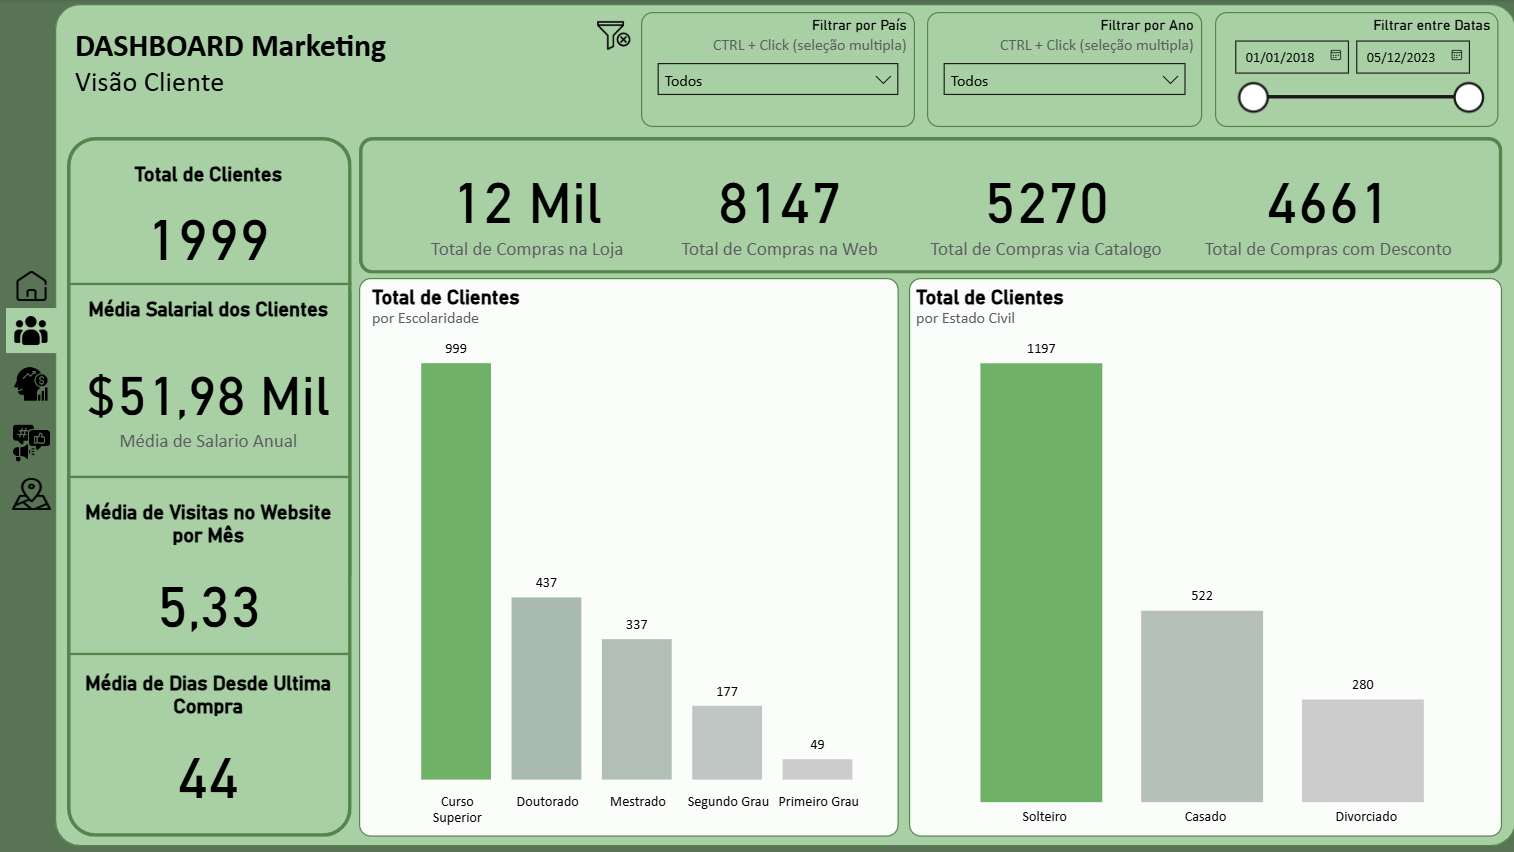

Layout of this report page (visuals, bound fields, positions):
{"tool":"powerbi","page":{"name":"Visão Cliente","canvas":[1280,720],"ordinal":1},"visuals":[{"type":"group","id":"g1","title":"Grupo 1","box":[48.1,4.2,1231.8,710.7],"z":0},{"type":"shape","box":[48.1,4.2,1231.8,710.7],"z":0,"group":"g1"},{"type":"shape","title":"Total de Vendas por Frente e Método","box":[304.6,116.3,964,115.3],"z":0,"group":"g3"},{"type":"group","id":"g2","title":"Grupo 3","box":[58.3,116.4,240,590],"z":0,"group":"g4"},{"type":"shape","box":[58.3,116.4,240,590],"z":0,"group":"g2"},{"type":"textbox","box":[59.8,17.6,314,73.6],"z":1000,"group":"g1"},{"type":"group","id":"g3","title":"Grupo 1","box":[304.6,116.3,964,115.3],"z":1000},{"type":"card","title":"Total de Clientes","fields":{"Values":["CountNonNull(Dados_Marketing.ID)"]},"box":[65.2,137.8,224.6,101.2],"z":1000,"group":"g7"},{"type":"shape","box":[58.3,547.3,239.1,10],"z":1000,"group":"g4"},{"type":"slicer","title":"Filtrar por Ano","fields":{"Values":["Dados_Marketing.Data Cadastro.Variation.Hierarquia de datas.Ano"]},"box":[783.5,10.6,231.8,97.4],"z":2000,"group":"g1"},{"type":"columnChart","title":"Total de Clientes","fields":{"Category":["Dados_Marketing.Escolaridade"],"Y":["CountNonNull(Dados_Marketing.ID)"]},"box":[304.6,235.5,454.5,470.9],"z":2000},{"type":"card","title":"Média Salarial dos Clientes","fields":{"Values":["Avg(Dados_Marketing.Salario Anual)"]},"box":[64.2,251.9,226.4,156],"z":2000,"group":"g7"},{"type":"shape","box":[58.3,398.2,239.1,10],"z":2000,"group":"g4"},{"type":"slicer","title":"Filtrar por País","fields":{"Values":["Dados_Marketing.Pais"]},"box":[541.7,10.6,230.9,97.4],"z":3000,"group":"g1"},{"type":"card","fields":{"Values":["Sum(Dados_Marketing.Numero de Compras na Loja)"]},"box":[343.5,125.1,206.1,101.5],"z":3000,"group":"g3"},{"type":"shape","box":[59.2,235.5,239.1,10],"z":3000,"group":"g4"},{"type":"columnChart","title":"Total de Clientes","fields":{"Category":["Dados_Marketing.Estado Civil"],"Y":["CountNonNull(Dados_Marketing.ID)"]},"box":[768.3,235.5,500,470.9],"z":3000},{"type":"image","box":[7,398.9,42.7,37.3],"z":3000,"group":"g6"},{"type":"slicer","title":"Filtrar entre Datas","fields":{"Values":["Dados_Marketing.Data Cadastro"]},"box":[1026.2,10.6,239.1,97.4],"z":4000,"group":"g1"},{"type":"group","id":"g4","title":"Grupo 4","box":[58.3,116.4,240,590],"z":4000},{"type":"card","fields":{"Values":["Sum(Dados_Marketing.Numero de Compras na Web)"]},"box":[551.6,125.1,215.1,102.5],"z":4000,"group":"g3"},{"type":"image","box":[7,260.7,42.7,38.2],"z":4000,"group":"g6"},{"type":"card","title":"Média de Visitas no Website por Mês","fields":{"Values":["Avg(Dados_Marketing.Numero Visitas WebSite Mes)"]},"box":[64.2,422.9,226.4,130.4],"z":4000,"group":"g7"},{"type":"card","fields":{"Values":["Sum(Dados_Marketing.Numero de Compras via Catalogo)"]},"box":[768.6,125.1,231,101.5],"z":5000,"group":"g3"},{"type":"group","id":"g5","title":"Grupo 5","box":[7,223.6,42.7,212.7],"z":5000},{"type":"group","id":"g6","title":"Grupo 2","box":[7,260.7,42.7,175.5],"z":5000,"group":"g5"},{"type":"image","box":[7,303.4,42.7,41.8],"z":5000,"group":"g6"},{"type":"image","box":[498.9,11.9,39.8,37.8],"z":6000},{"type":"card","fields":{"Values":["Sum(Dados_Marketing.Numero de Compras com Desconto)"]},"box":[1001.6,125.1,240,101.5],"z":6000,"group":"g3"},{"type":"image","box":[7,223.6,42.6,37.2],"z":6000,"group":"g5"},{"type":"image","box":[7,349.8,42.7,48.2],"z":6000,"group":"g6"},{"type":"card","title":"Média de Dias Desde Ultima Compra","fields":{"Values":["Avg(Dados_Marketing.Dias Desde Ultima Compra)"]},"box":[64.1,567.1,226.4,130.4],"z":6000,"group":"g7"},{"type":"group","id":"g7","title":"Grupo 2","box":[64.1,137.8,226.4,559.7],"z":6001,"group":"g2"}]}

Visuals, with their boxes on the page's 1280x720 design canvas (x1, y1, x2, y2). These are canvas units, not pixel positions in the 1514x852 screenshot, which may show the page scaled, cropped or inside an application window:
"Grupo 1" group: rect(48, 4, 1280, 715)
shape: rect(48, 4, 1280, 715)
"Total de Vendas por Frente e Método" shape: rect(305, 116, 1269, 232)
"Grupo 3" group: rect(58, 116, 298, 706)
shape: rect(58, 116, 298, 706)
textbox: rect(60, 18, 374, 91)
"Grupo 1" group: rect(305, 116, 1269, 232)
"Total de Clientes" card: rect(65, 138, 290, 239)
shape: rect(58, 547, 297, 557)
"Filtrar por Ano" slicer: rect(784, 11, 1015, 108)
"Total de Clientes" columnChart: rect(305, 236, 759, 706)
"Média Salarial dos Clientes" card: rect(64, 252, 291, 408)
shape: rect(58, 398, 297, 408)
"Filtrar por País" slicer: rect(542, 11, 773, 108)
card - Sum(Dados_Marketing.Numero de Compras na Loja): rect(344, 125, 550, 227)
shape: rect(59, 236, 298, 246)
"Total de Clientes" columnChart: rect(768, 236, 1268, 706)
image: rect(7, 399, 50, 436)
"Filtrar entre Datas" slicer: rect(1026, 11, 1265, 108)
"Grupo 4" group: rect(58, 116, 298, 706)
card - Sum(Dados_Marketing.Numero de Compras na Web): rect(552, 125, 767, 228)
image: rect(7, 261, 50, 299)
"Média de Visitas no Website por Mês" card: rect(64, 423, 291, 553)
card - Sum(Dados_Marketing.Numero de Compras via Catalogo): rect(769, 125, 1000, 227)
"Grupo 5" group: rect(7, 224, 50, 436)
"Grupo 2" group: rect(7, 261, 50, 436)
image: rect(7, 303, 50, 345)
image: rect(499, 12, 539, 50)
card - Sum(Dados_Marketing.Numero de Compras com Desconto): rect(1002, 125, 1242, 227)
image: rect(7, 224, 50, 261)
image: rect(7, 350, 50, 398)
"Média de Dias Desde Ultima Compra" card: rect(64, 567, 290, 698)
"Grupo 2" group: rect(64, 138, 290, 698)
